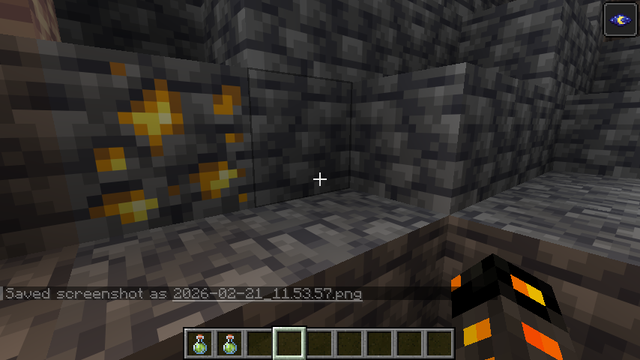gold: (57, 52, 253, 216)
